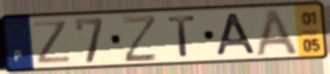7: (73, 15, 107, 66)
A: (254, 7, 301, 58), (215, 12, 259, 58)
T: (166, 14, 198, 59)
Z: (119, 13, 161, 64), (31, 19, 74, 66)
